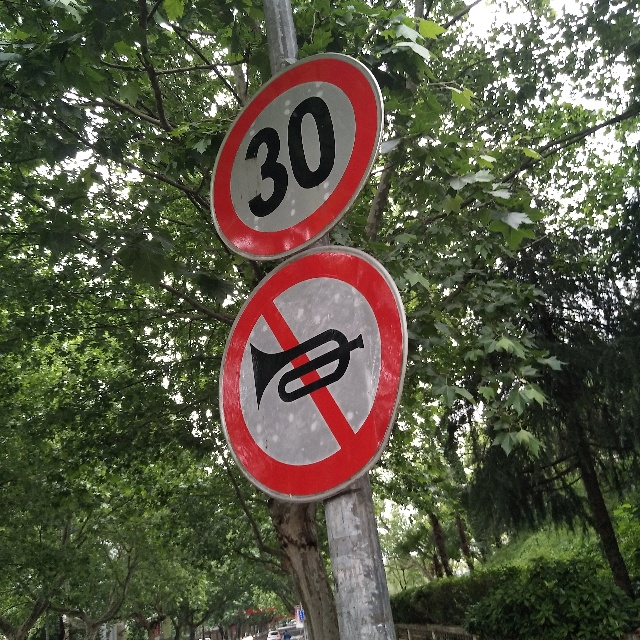nohonk: (207, 246, 416, 503)
